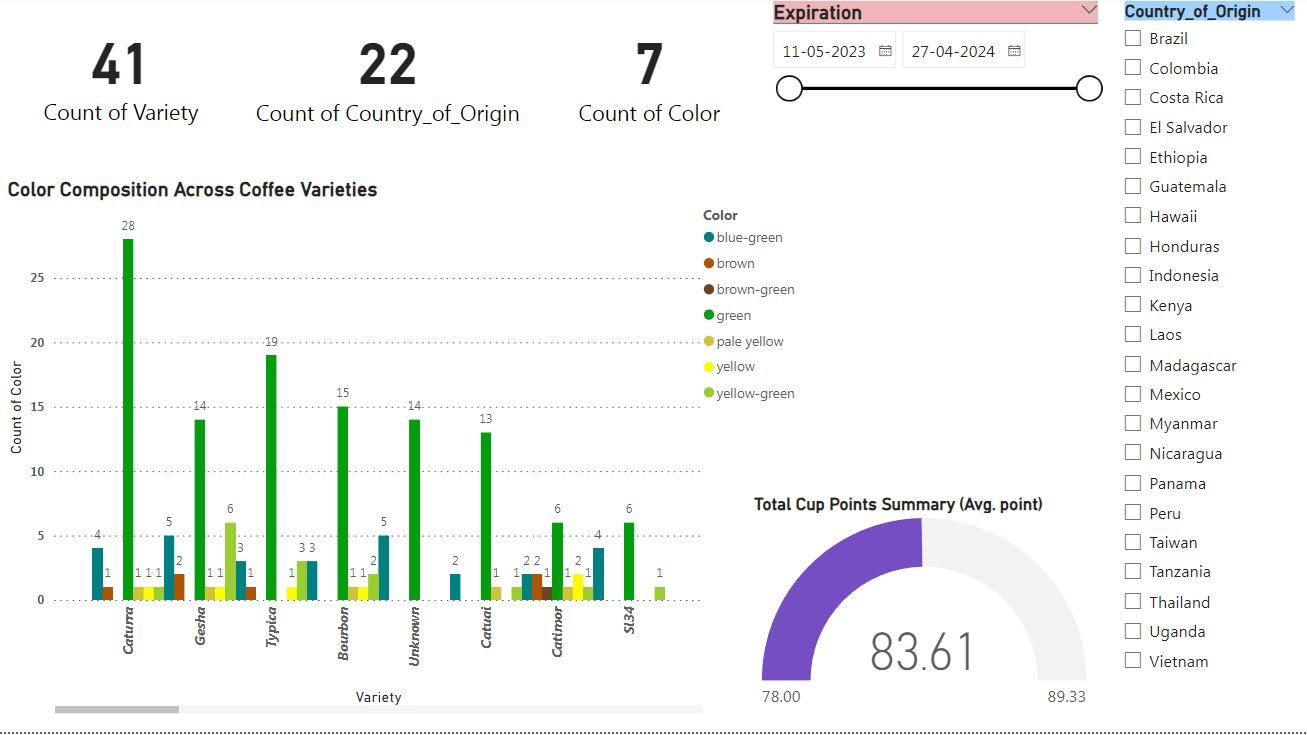

This screenshot's page, from the dashboard's own definition file:
{"tool":"powerbi","page":{"name":"Page 6","canvas":[1280,720],"ordinal":5},"visuals":[{"type":"clusteredColumnChart","title":"Color Composition Across Coffee Varieties","fields":{"Category":["CoffeeOverview.Variety"],"Y":["CountNonNull(CoffeeOverview.Color)"],"Series":["CoffeeOverview.Color"]},"box":[4.1,178.4,789,528.3],"z":0},{"type":"card","fields":{"Values":["Count(CoffeeOverview.Color)"]},"box":[537.9,1.4,196.2,145.5],"z":1000},{"type":"card","fields":{"Values":["Count(CoffeeOverview.Variety)"]},"box":[0,0,238.8,146.8],"z":2000},{"type":"card","fields":{"Values":["Count(CoffeeOverview.Country_of_Origin)"]},"box":[238.8,1.4,284,145.5],"z":3000},{"type":"gauge","title":"Total Cup Points Summary (Avg. point)","fields":{"MinValue":["Min(CoffeeOverview.Total_Cup_Points)"],"MaxValue":["Max(CoffeeOverview.Total_Cup_Points)1"],"Y":["Avg(CoffeeOverview.Total_Cup_Points)2"]},"box":[734.1,487.1,343.1,219.6],"z":4000},{"type":"slicer","fields":{"Values":["CoffeeOverview.Country_of_Origin"]},"box":[1088.2,0,192.1,720.4],"z":5000},{"type":"slicer","fields":{"Values":["CoffeeOverview.Expiration"]},"box":[745.1,0,343.1,161.9],"z":6000}]}

Visuals, with their boxes in screenshot pixels (x1, y1, x2, y2), scaled from the page's 1280x720 canvas onto the 1307x735 screenshot:
"Color Composition Across Coffee Varieties" clusteredColumnChart: {"x1": 4, "y1": 182, "x2": 810, "y2": 721}
card - Count(CoffeeOverview.Color): {"x1": 549, "y1": 1, "x2": 750, "y2": 150}
card - Count(CoffeeOverview.Variety): {"x1": 0, "y1": 0, "x2": 244, "y2": 150}
card - Count(CoffeeOverview.Country_of_Origin): {"x1": 244, "y1": 1, "x2": 534, "y2": 150}
"Total Cup Points Summary (Avg. point)" gauge: {"x1": 750, "y1": 497, "x2": 1100, "y2": 721}
slicer - CoffeeOverview.Country_of_Origin: {"x1": 1111, "y1": 0, "x2": 1306, "y2": 734}
slicer - CoffeeOverview.Expiration: {"x1": 761, "y1": 0, "x2": 1111, "y2": 165}
